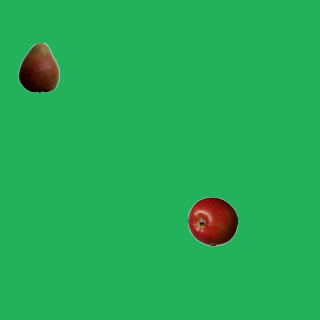Apple Braeburn: (187, 196, 237, 246)
Pear Forelle: (13, 42, 63, 92)
